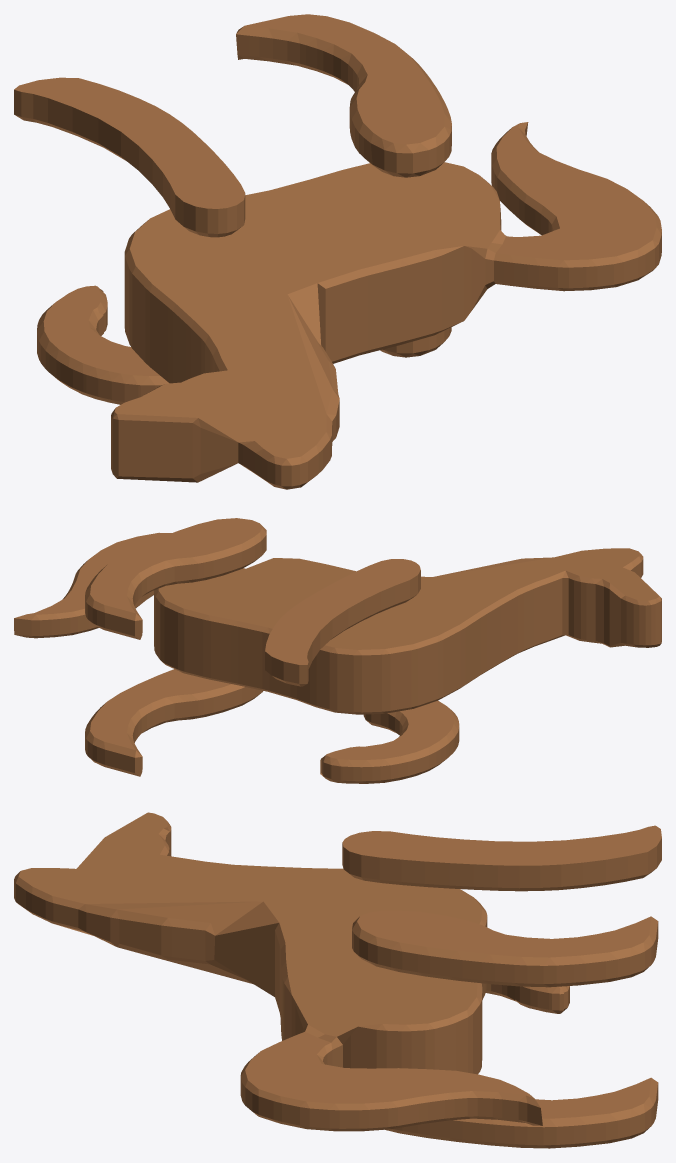
Rendered from horse.fbx.
3 renders of one model, top to bottom at view 1: azimuth 30°, elevation 25°; view 2: azimuth 150°, elevation 25°; view 3: azimuth 270°, elevation 25°, orthographic. The views are drawn at different scales.
Parts seen in each view (by area): view 1: main body, hind leg.001, front leg straight, front leg bent, hind leg; view 2: main body, hind leg.001, front leg straight, hind leg, front leg bent; view 3: main body, hind leg.001, front leg straight, hind leg, front leg bent.
Part boxes in pixels (box(x1,y1,x2,y2)): main body: box(111, 122, 661, 489); hind leg.001: box(236, 14, 451, 177); front leg straight: box(14, 77, 245, 237); front leg bent: box(37, 285, 169, 404); hind leg: box(380, 327, 451, 357); main body: box(14, 532, 661, 714); hind leg.001: box(85, 518, 266, 639); front leg straight: box(265, 559, 420, 686); hind leg: box(85, 669, 262, 776); front leg bent: box(320, 700, 459, 783); main body: box(14, 812, 542, 1131); hind leg.001: box(352, 910, 658, 987); front leg straight: box(342, 825, 661, 891); hind leg: box(385, 1077, 658, 1148); front leg bent: box(485, 984, 569, 1013).
Size of the model in its own units: 135 by 42.96 by 132.
